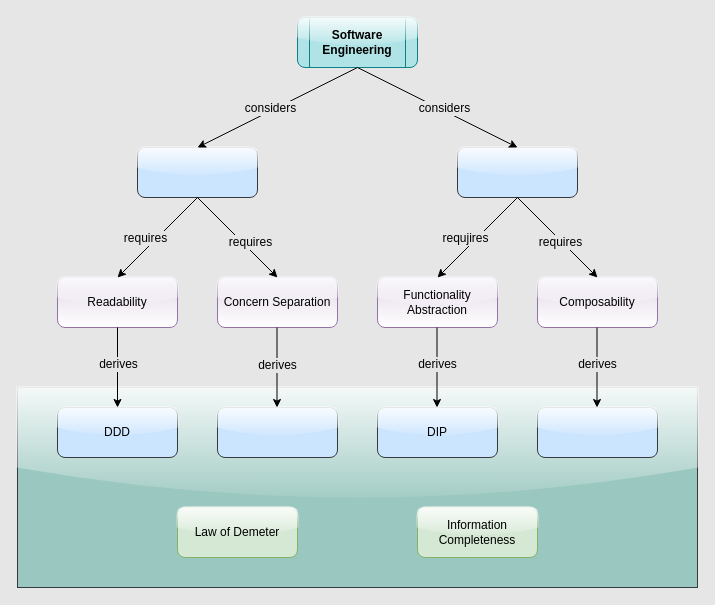
Image size: 715x605. Some labels were removed from this diagram. Here are the shapes that lost their labels. From the top down, the box of each, then its label:
(136, 146, 258, 198): Maintainability
(456, 146, 578, 198): Reusability
(216, 406, 338, 458): SRP
(536, 406, 658, 458): OCP
